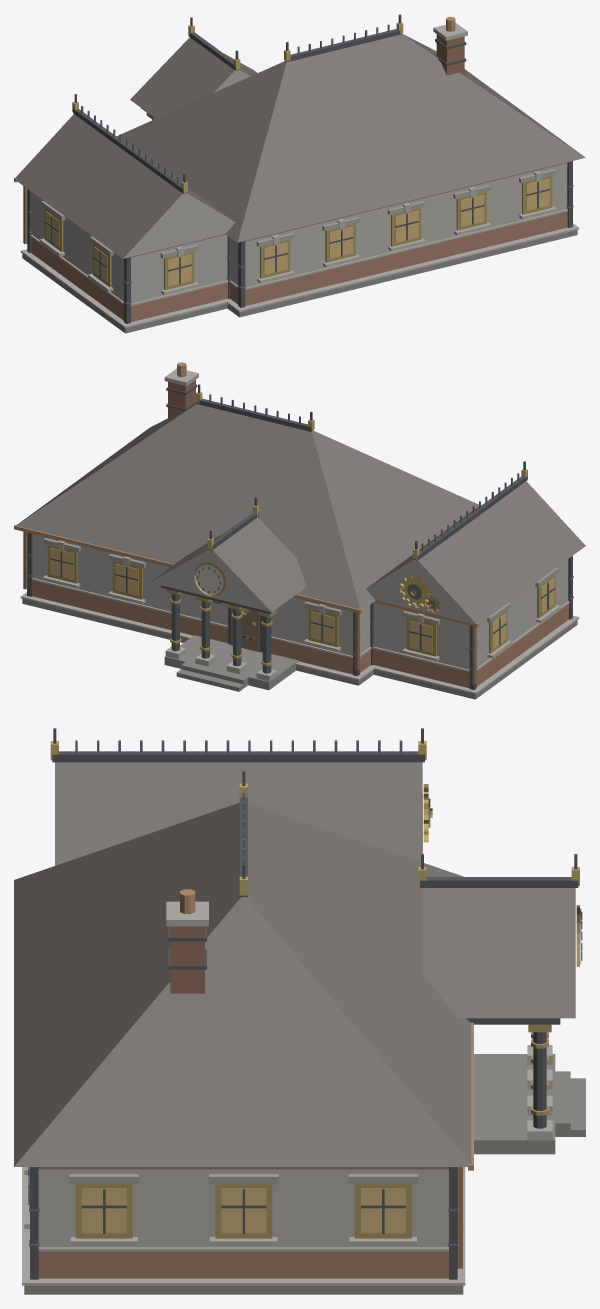
File: casa-n04-c85e8a3f.glb
3 views of the same model, one above another, from view 1: azimuth 30°, elevation 25°; view 2: azimuth 150°, elevation 25°; view 3: azimuth 270°, elevation 25° (orthographic). The views are drawn at different scales.
Parts seen in each view (by area): view 1: casa_n04, casa_n04_glow; view 2: casa_n04, casa_n04_glow; view 3: casa_n04, casa_n04_glow.
Boxes of the visible parts, bbox=[...] form: casa_n04: bbox=[14, 14, 585, 333]; casa_n04_glow: bbox=[46, 179, 549, 286]; casa_n04: bbox=[14, 362, 585, 699]; casa_n04_glow: bbox=[50, 548, 554, 652]; casa_n04: bbox=[14, 728, 585, 1294]; casa_n04_glow: bbox=[29, 1169, 405, 1233].
Size of the model in its own units: 17.2 by 7.29 by 11.2.
